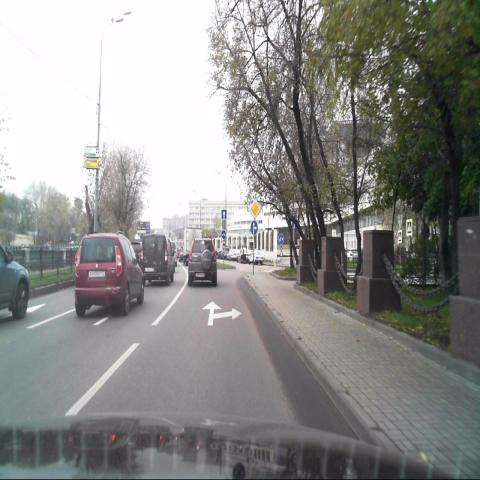2_2: (250, 198, 260, 219)
